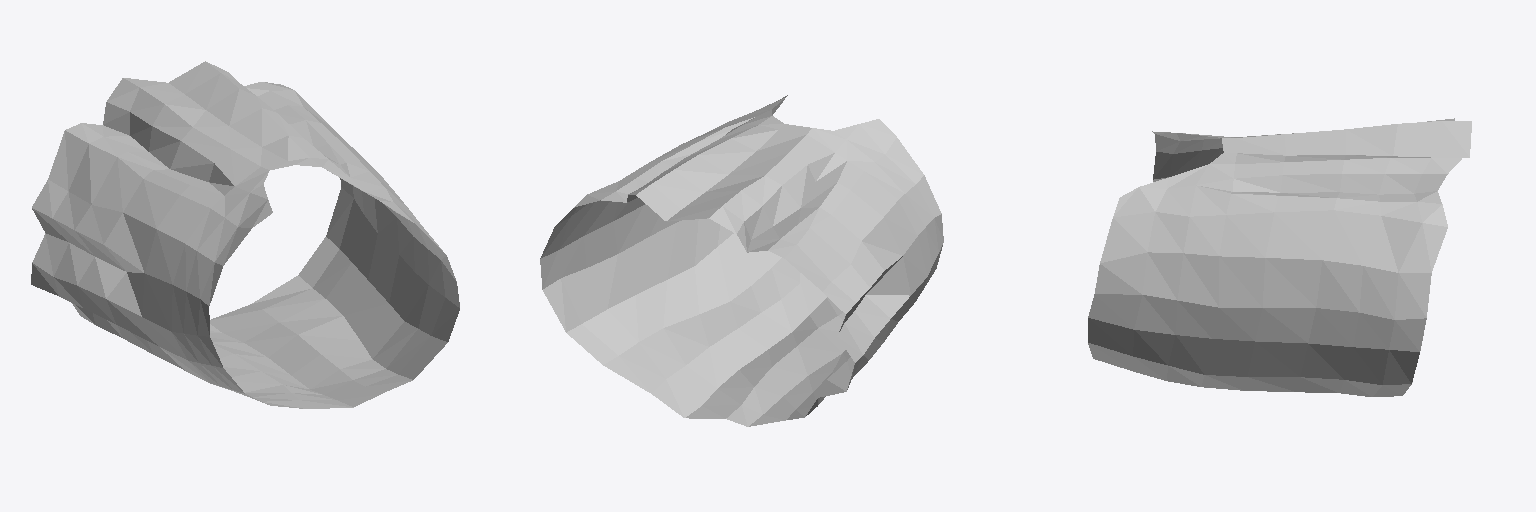
File: mdlB3.obj
3 renders of one model, left to right at view 1: azimuth 30°, elevation 25°; view 2: azimuth 150°, elevation 25°; view 3: azimuth 270°, elevation 25°, orthographic.
Parts seen in each view (by area): view 1: mdl.005; view 2: mdl.005; view 3: mdl.005.
Part boxes in pixels (x1,y1,x2,y2): mdl.005: (31,61,459,408); mdl.005: (540,95,943,426); mdl.005: (1088,118,1471,396).
Bounding box in the file's own units: 33.57 × 24.33 × 35.95.